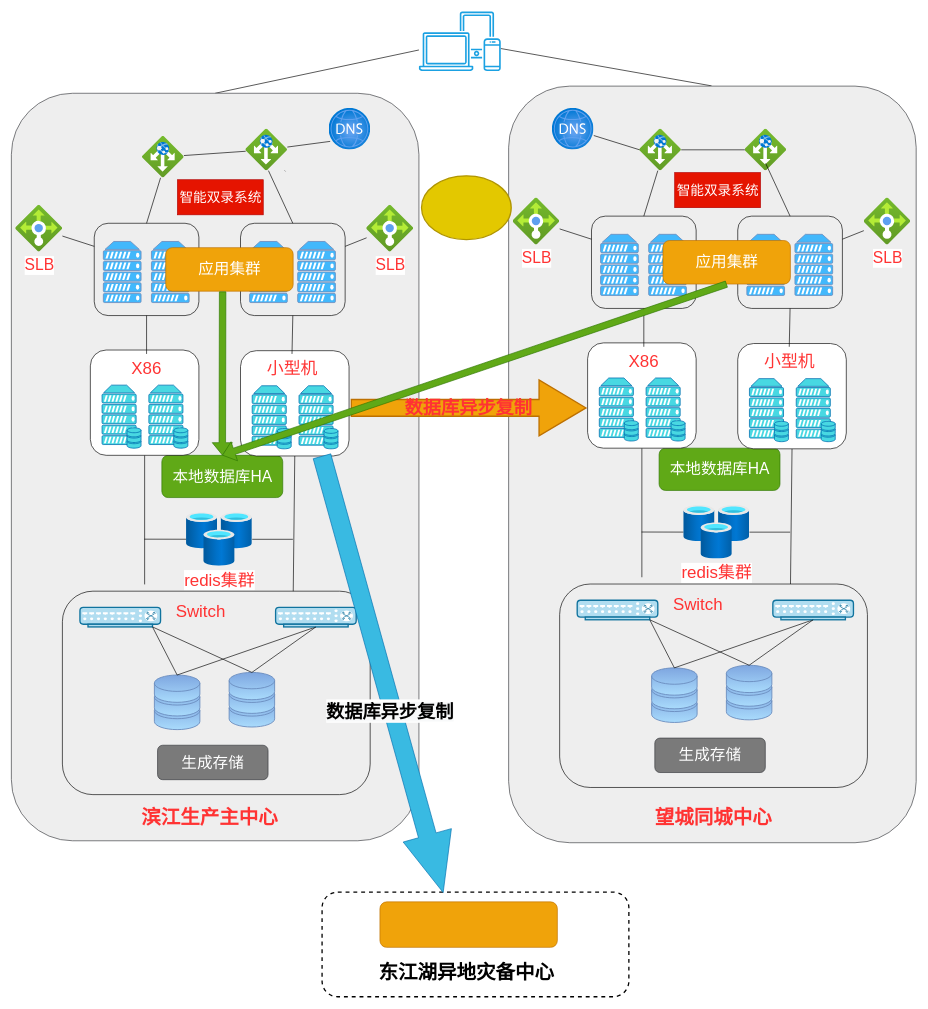
This 928x1009 diagram has some shape labels left out. Here are the shapes that lost their labels. From the top down, the box of each, then its label:
(418, 11, 501, 71): client
(421, 175, 512, 240): 容灾切换 平台
(379, 901, 557, 947): 异地灾备
